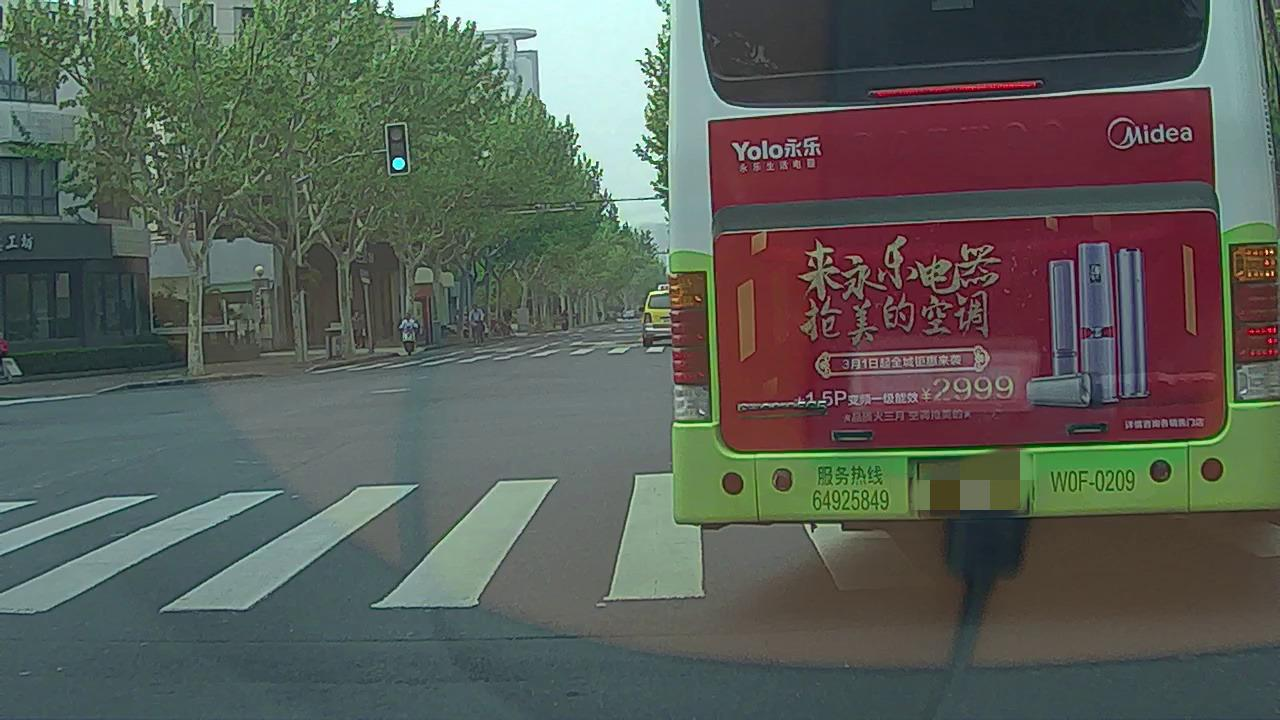traffic_light: (387, 126, 409, 173)
